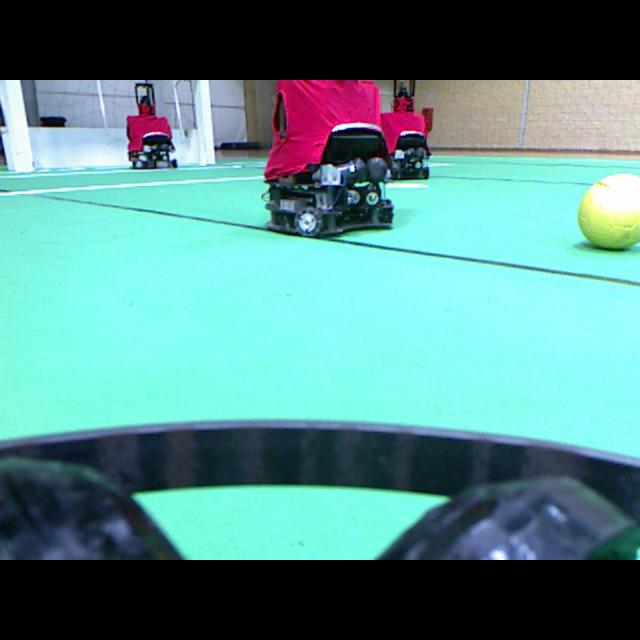ball: (578, 174, 639, 248)
goal: (0, 80, 33, 171), (195, 80, 214, 164)
